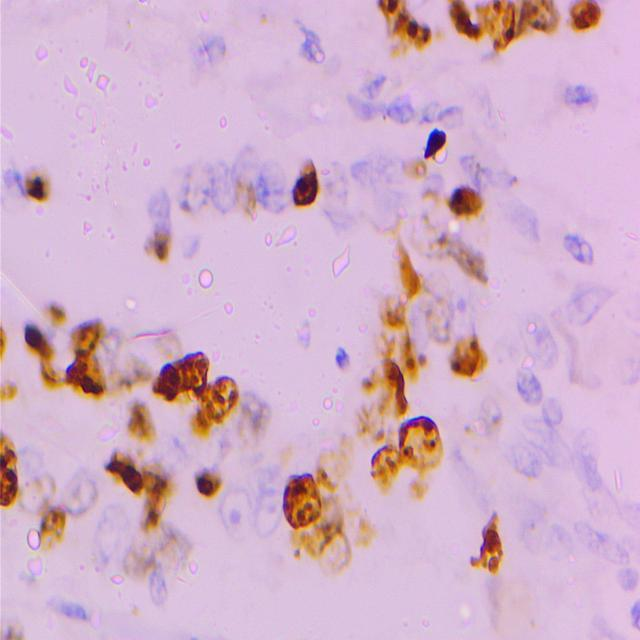Healthy cell: (495, 319, 558, 374), (576, 519, 634, 574), (546, 393, 602, 445), (454, 152, 520, 188), (343, 70, 388, 122), (322, 162, 358, 225), (360, 162, 402, 215), (576, 454, 628, 494), (511, 433, 552, 479), (568, 282, 616, 320), (519, 512, 561, 554), (562, 76, 604, 116), (502, 198, 542, 240), (386, 80, 418, 127), (43, 590, 84, 626), (179, 33, 228, 63), (206, 164, 236, 212), (616, 572, 640, 632), (296, 16, 324, 65), (418, 96, 460, 127), (563, 230, 601, 263), (259, 159, 284, 208), (512, 370, 544, 406), (146, 186, 174, 226), (232, 147, 258, 183), (149, 576, 171, 606), (0, 164, 19, 192)
cancer-cell-QiJm: (417, 223, 497, 283), (101, 324, 160, 396), (376, 0, 438, 63), (467, 512, 513, 582), (447, 329, 495, 393), (284, 475, 340, 526), (383, 326, 431, 384), (24, 323, 64, 390), (459, 399, 512, 449), (395, 417, 443, 469), (470, 0, 516, 52), (336, 496, 379, 551), (356, 369, 402, 420), (392, 234, 432, 290), (87, 507, 125, 565), (422, 280, 452, 349), (318, 443, 362, 490), (196, 382, 237, 431), (286, 154, 323, 208), (152, 524, 194, 570), (64, 350, 104, 398), (37, 503, 76, 552), (0, 429, 23, 509), (447, 0, 488, 44), (284, 523, 340, 554), (139, 472, 166, 536), (212, 489, 247, 537), (516, 0, 555, 43), (174, 163, 207, 213), (238, 399, 272, 445), (380, 288, 412, 336), (370, 448, 401, 497), (116, 542, 148, 588), (253, 472, 274, 540), (105, 449, 138, 489), (563, 0, 603, 33), (349, 415, 391, 445), (446, 186, 484, 219), (322, 538, 355, 576), (402, 469, 435, 507), (123, 407, 155, 446), (160, 358, 192, 397), (67, 469, 99, 507), (20, 168, 52, 205), (185, 347, 213, 389), (142, 226, 174, 261), (68, 319, 104, 350), (422, 123, 449, 159), (150, 329, 181, 359), (22, 473, 52, 503), (190, 468, 220, 496), (400, 155, 428, 182), (0, 324, 19, 362), (328, 343, 350, 372), (0, 377, 23, 402), (46, 300, 67, 322), (422, 183, 444, 203)
